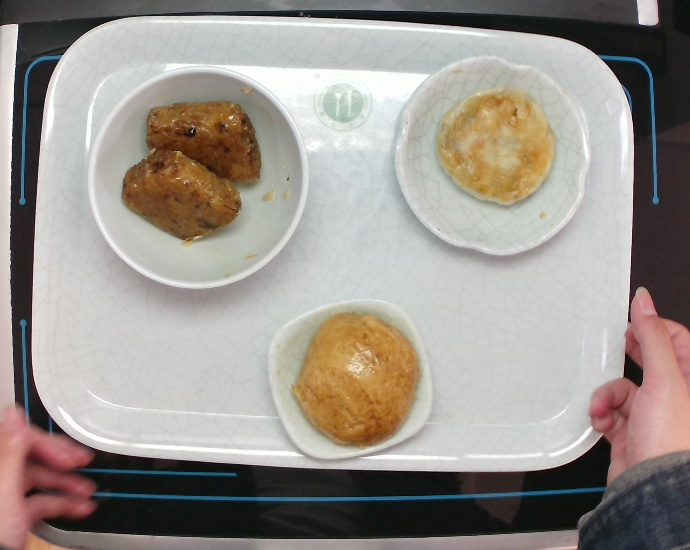JYsf-Ao_Yuan_Wan: (391, 53, 593, 259)
JYsf-Fan_Wan: (83, 64, 311, 292)
JYsf-Si_Fang_Die: (264, 297, 435, 461)
